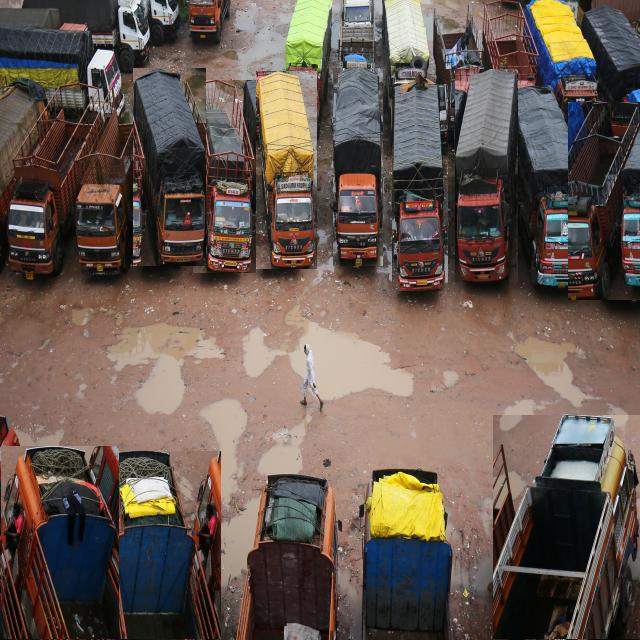truck: (493, 415, 640, 639), (92, 451, 220, 640), (0, 446, 119, 639), (8, 84, 105, 280), (236, 473, 338, 640), (506, 87, 586, 289), (75, 84, 154, 276), (568, 102, 640, 300), (133, 69, 205, 266), (455, 69, 518, 282), (193, 80, 255, 273), (256, 71, 316, 269), (392, 85, 448, 291), (0, 24, 125, 116), (333, 69, 382, 266)
